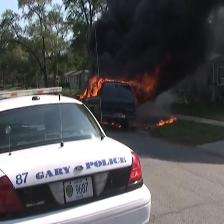fire: (85, 78, 153, 98)
smoke: (113, 7, 199, 72)
